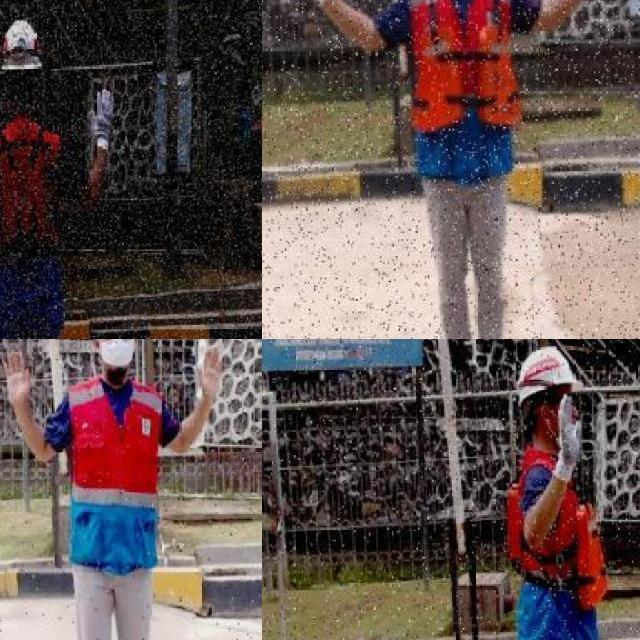apron: (551, 396, 587, 476), (89, 86, 115, 156)
